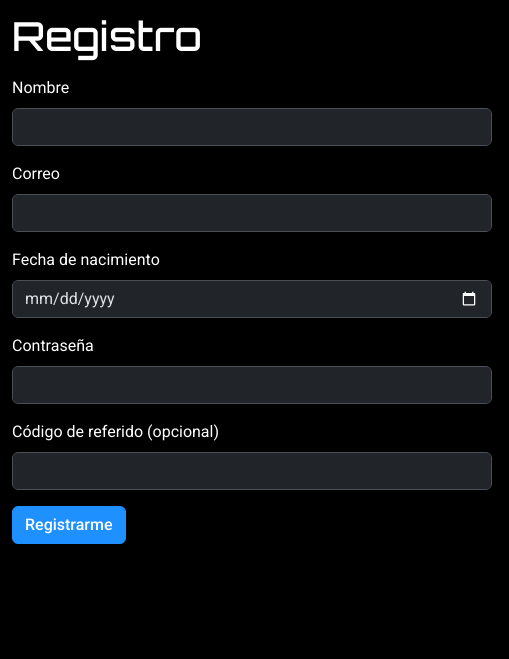
RegisterView › sugiere un correo Duoc cuando el registro no tiene descuento
In the field labelled "Nombre": (252, 127) [12, 108, 492, 146], type "Beto"
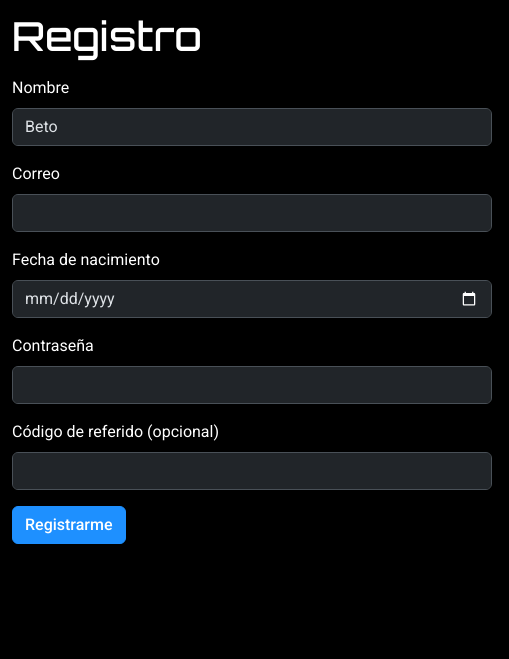
In the field labelled "Correo": (252, 213) [12, 194, 492, 232], type "beto@gmail.com"
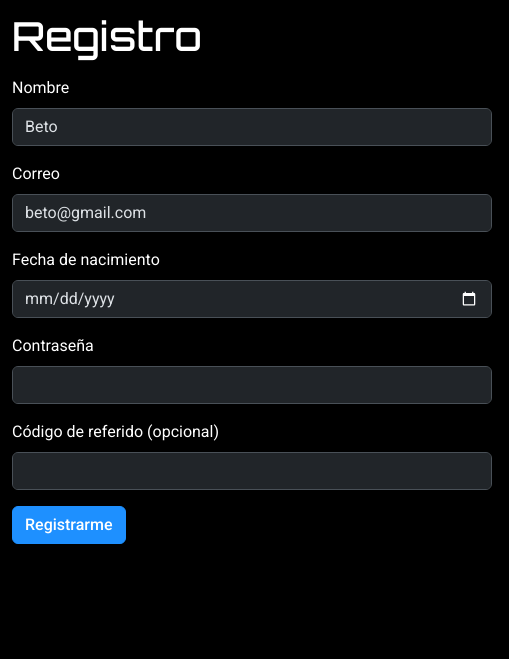
In the date field labelled "Fecha de nacimiento": (252, 299) [12, 280, 492, 318], type "2000-01-01"
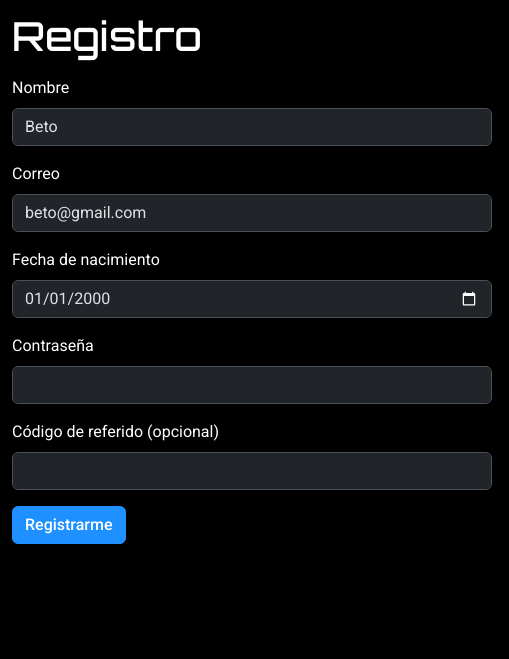
In the password field labelled "Contraseña": (252, 385) [12, 366, 492, 404], type "secreta1"
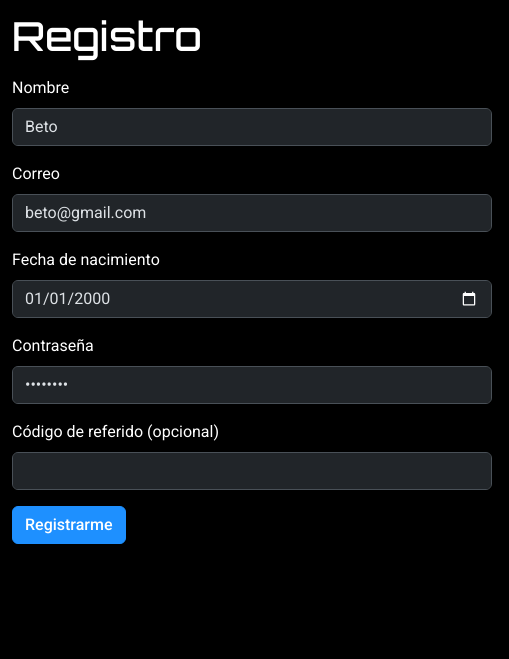
Click the button "Registrarme": (69, 525) [12, 506, 126, 544]
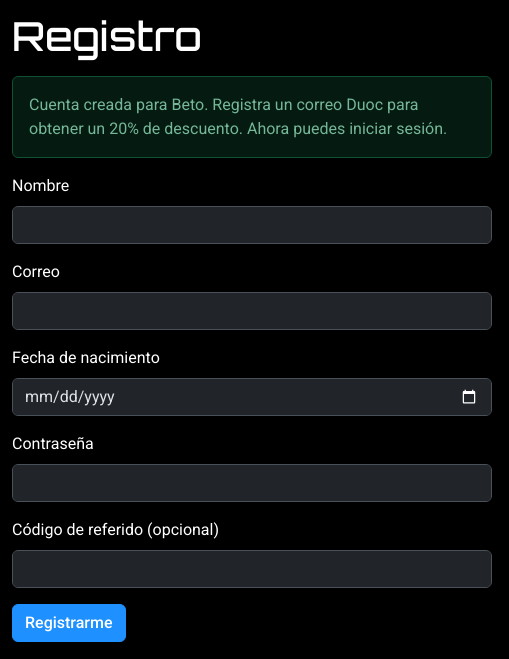
Result: the text "Registra un correo Duoc" is shown at [29, 95, 418, 138]
